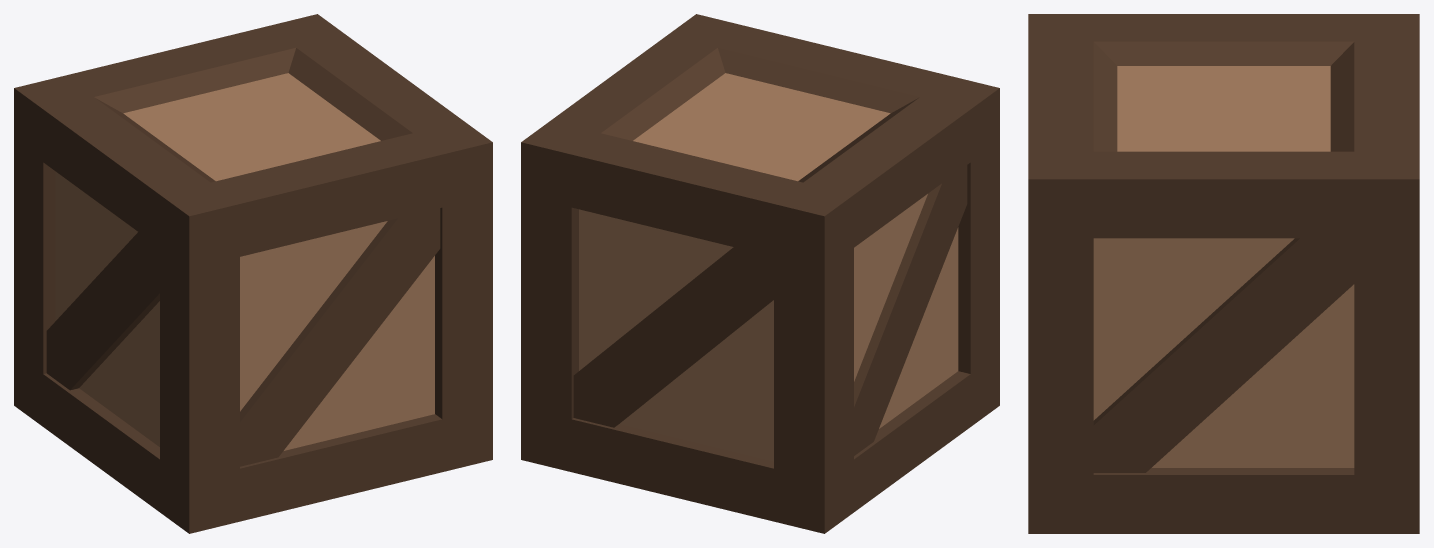
Rendered from lowPolyCrate.fbx.
The picture shows the model from 3 angles, left to right: view 1: azimuth 30°, elevation 25°; view 2: azimuth 150°, elevation 25°; view 3: azimuth 270°, elevation 25°; orthographic projection. The views are drawn at different scales.
Visible parts, largest first — view 1: Cube; view 2: Cube; view 3: Cube.
Boxes of the visible parts, x1,y1,x2,y2 form: Cube: (14, 14, 492, 533); Cube: (521, 14, 999, 533); Cube: (1028, 14, 1419, 533).
Bounding box in the file's own units: 200 × 200 × 200.
